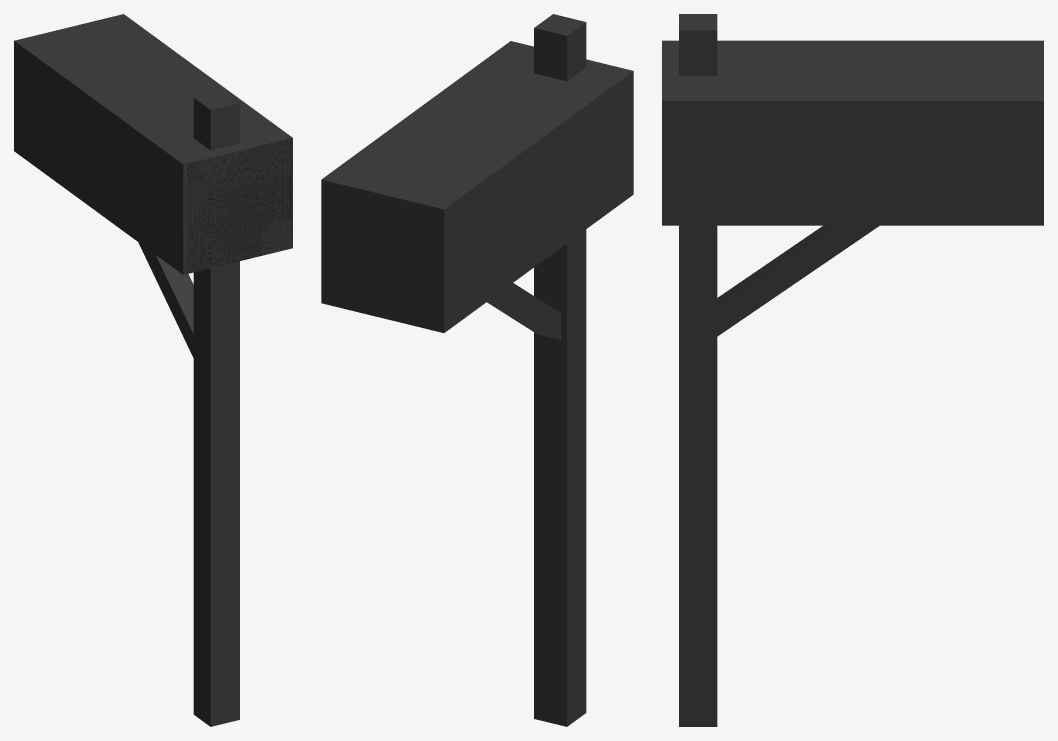
The model's file is mailbox.obj.
3 renders of one model, left to right at view 1: azimuth 30°, elevation 25°; view 2: azimuth 150°, elevation 25°; view 3: azimuth 270°, elevation 25°, orthographic. The views are drawn at different scales.
Bounding box in the file's own units: 0.7439 × 4 × 1.99.
Materials: 2 (2 with a texture image).
